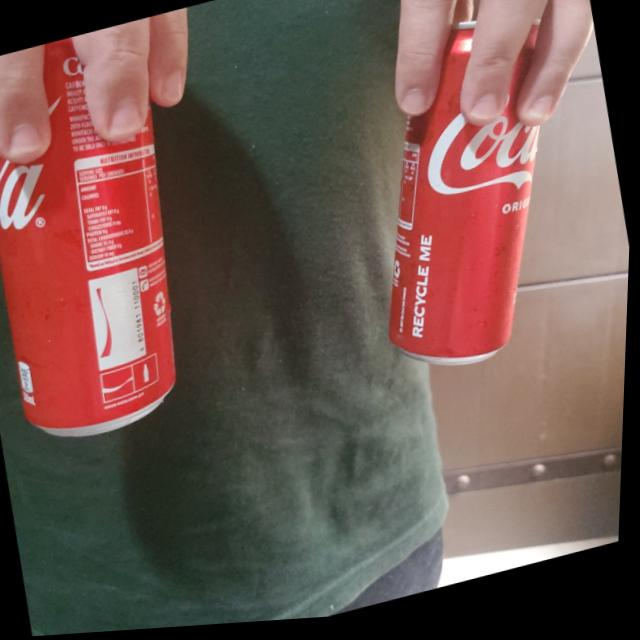coke: (336, 4, 599, 393), (0, 20, 206, 457)
